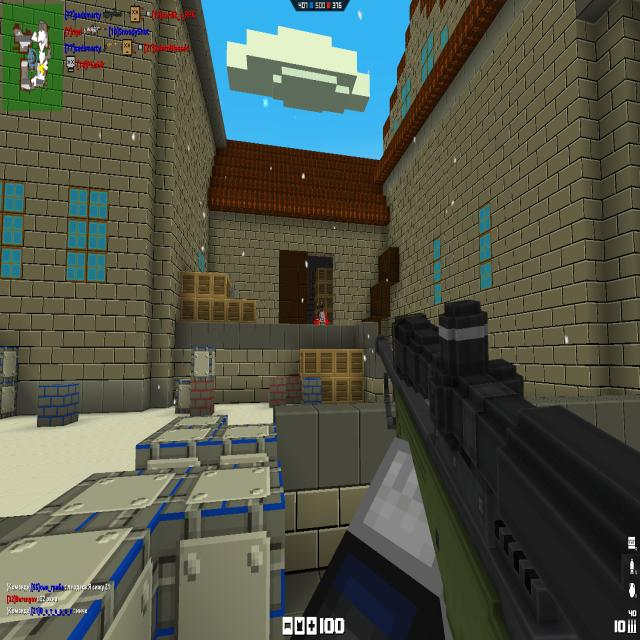player: (313, 306, 329, 325)
